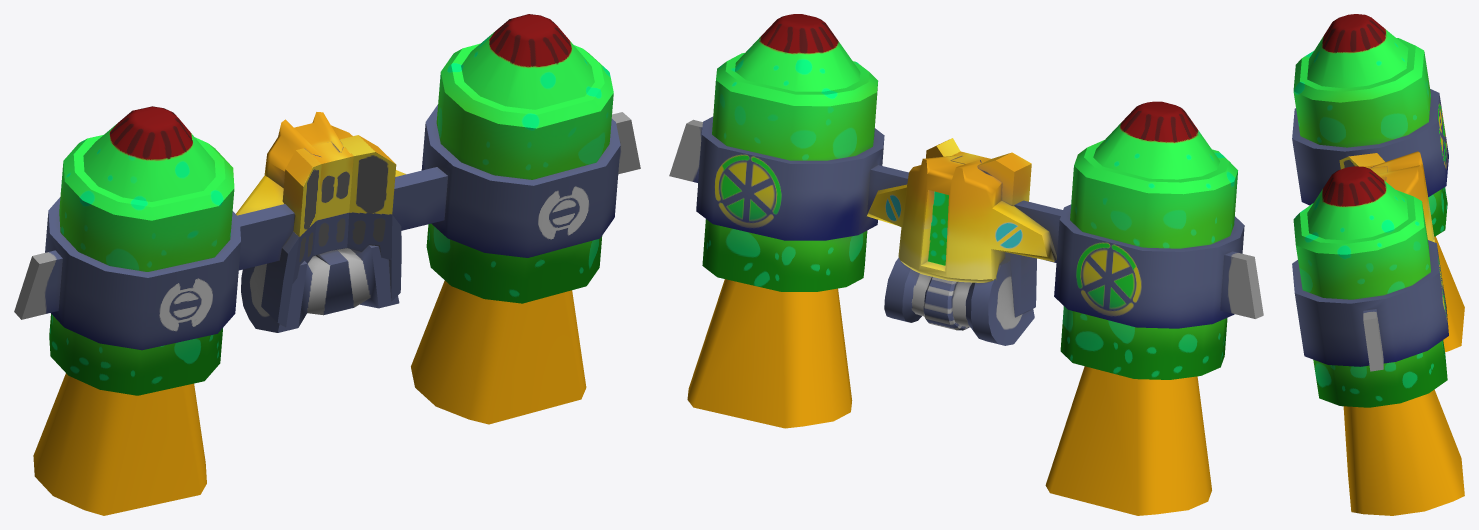
The model's file is Glider_Rocket.fbx.
The picture shows the model from 3 angles, left to right: view 1: azimuth 30°, elevation 25°; view 2: azimuth 150°, elevation 25°; view 3: azimuth 270°, elevation 25°; orthographic projection. The views are drawn at different scales.
Parts seen in each view (by area): view 1: Glider_Rocket, Thruster02, Thruster01; view 2: Glider_Rocket, Thruster01, Thruster02; view 3: Glider_Rocket, Thruster01, Thruster02.
Part boxes in pixels (x1=…): Glider_Rocket: x1=14, y1=14, x2=640, y2=395; Thruster02: x1=33, y1=373, x2=206, y2=515; Thruster01: x1=411, y1=280, x2=586, y2=424; Glider_Rocket: x1=669, y1=14, x2=1263, y2=379; Thruster01: x1=687, y1=279, x2=852, y2=428; Thruster02: x1=1045, y1=366, x2=1211, y2=515; Glider_Rocket: x1=1292, y1=14, x2=1448, y2=407; Thruster01: x1=1343, y1=389, x2=1464, y2=515; Thruster02: x1=1434, y1=236, x2=1464, y2=352.
Bounding box in the file's own units: 1.62 × 0.4757 × 0.9756.
Materials: 2 (1 with a texture image).
